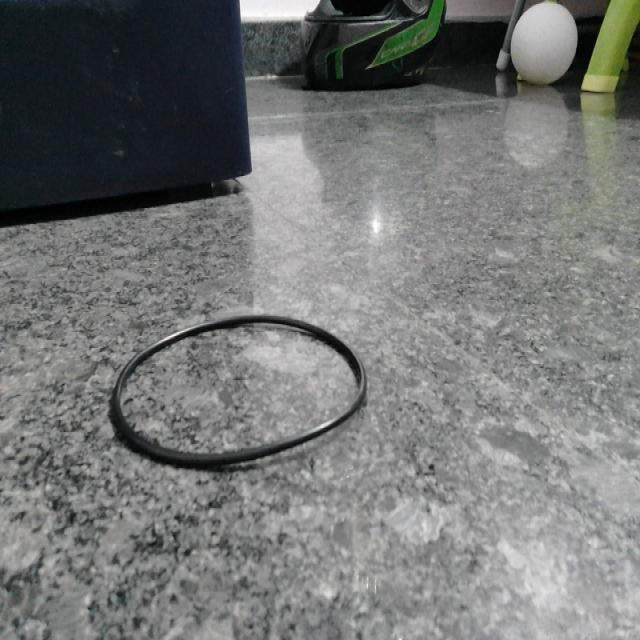black-ring: (111, 315, 366, 468)
